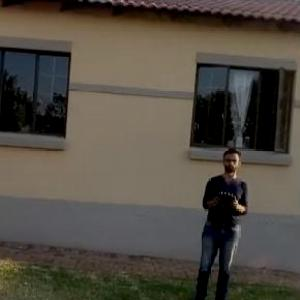follow: (184, 138, 254, 299)
